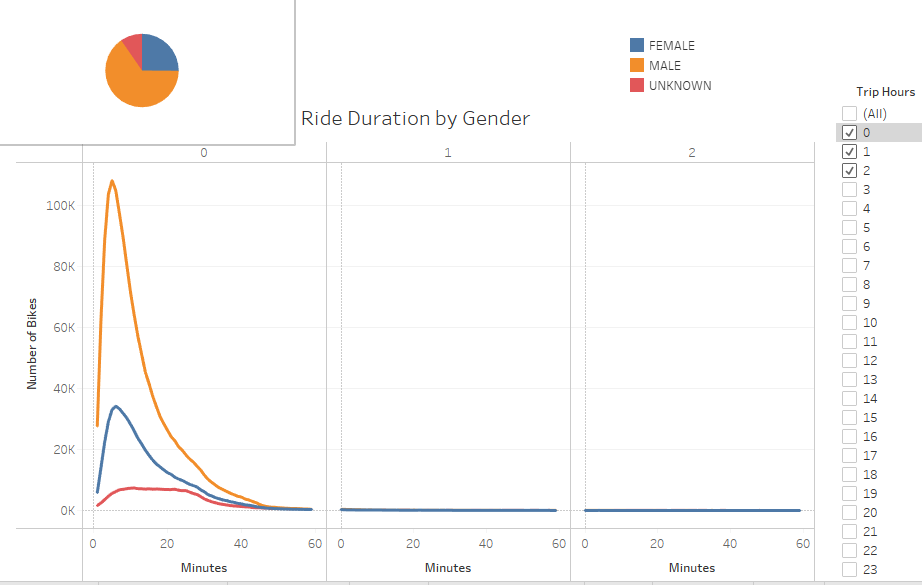

Layout of this report page (visuals, bound fields, positions):
{"tool":"tableau","page":{"name":"Dashboard 6","canvas":[1000,800],"ordinal":3},"visuals":[{"type":"legend","title":"Ride Duration by Gender","param":"[federated.0sx5glx0vfjmuz1dkcllk0mkpj9r].[none:Calculation_1399212164086235136:n","box":[634,89,140,60]},{"type":"filter","title":"Ride Duration by Gender","param":"[federated.0sx5glx0vfjmuz1dkcllk0mkpj9r].[hr:new_tripduration:ok]","box":[843,137,100,507]},{"type":"worksheet","title":"Ride Duration by Gender","mark":"Automatic","rows":["201908_citibike_NYC_tripdata_updated.csv_4DF2055BB99D49B28D0"],"cols":["new_tripduration","new_tripduration"],"box":[23,153,799,485]}]}

Visuals, with their boxes on the page's 1000x800 design canvas (x1, y1, x2, y2). These are canvas units, not pixel positions in the 922x585 screenshot, which may show the page scaled, cropped or inside an application window:
"Ride Duration by Gender" legend: bbox=[634, 89, 774, 149]
"Ride Duration by Gender" filter: bbox=[843, 137, 943, 644]
"Ride Duration by Gender" worksheet: bbox=[23, 153, 822, 638]
